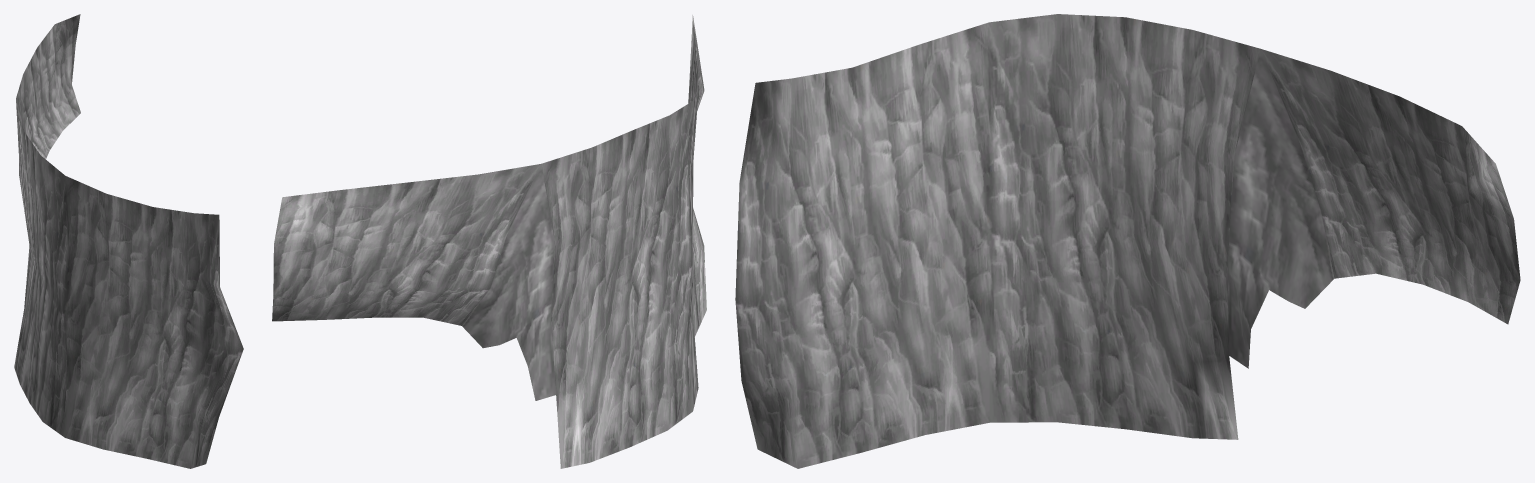
File: SWORDLIGHT20_PS-AREA03_162.fbx
3 views of the same model, side by side, from view 1: azimuth 30°, elevation 25°; view 2: azimuth 150°, elevation 25°; view 3: azimuth 270°, elevation 25° (orthographic). The views are drawn at different scales.
Visible parts, largest first — view 1: SWORDLIGHT20_PS-AREA03_162; view 2: SWORDLIGHT20_PS-AREA03_162; view 3: SWORDLIGHT20_PS-AREA03_162.
Boxes of the visible parts, x1=… form: SWORDLIGHT20_PS-AREA03_162: x1=14, y1=14, x2=243, y2=468; SWORDLIGHT20_PS-AREA03_162: x1=272, y1=15, x2=706, y2=468; SWORDLIGHT20_PS-AREA03_162: x1=735, y1=14, x2=1520, y2=468.
Bounding box in the file's own units: 75771 × 103447 × 179600.
2 materials, 2 textured.
